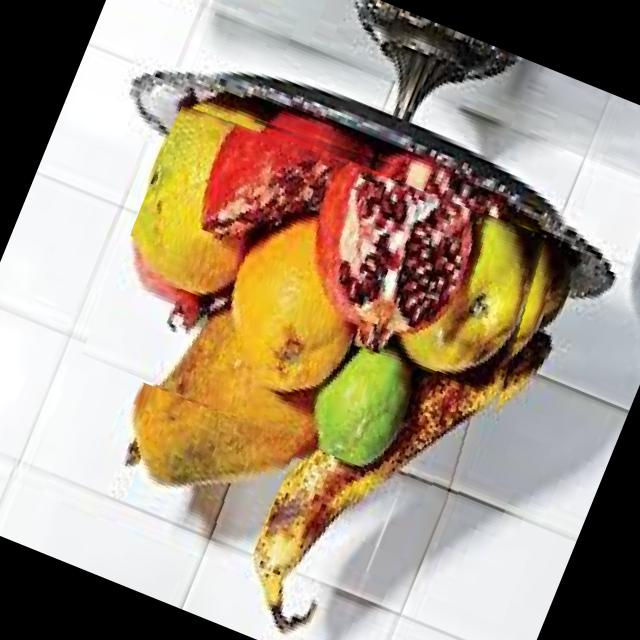Organic: (80, 89, 572, 508), (97, 380, 290, 550), (252, 101, 493, 214), (226, 454, 365, 640)
